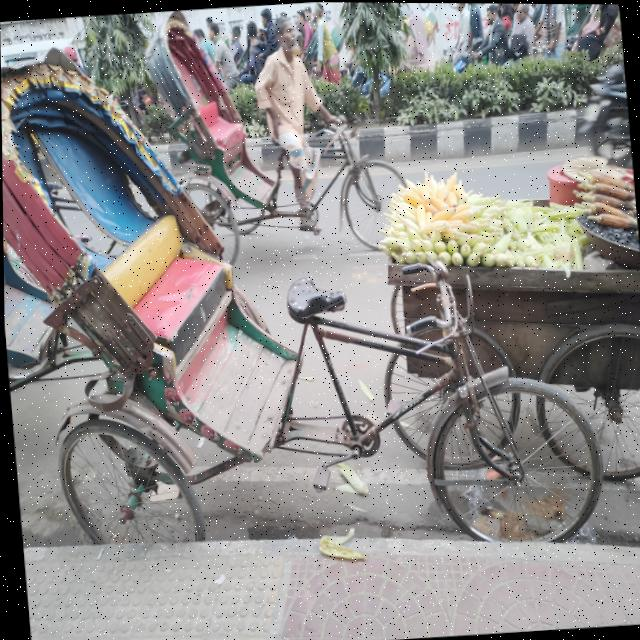rikshaw: (1, 71, 585, 630), (125, 1, 421, 268)
